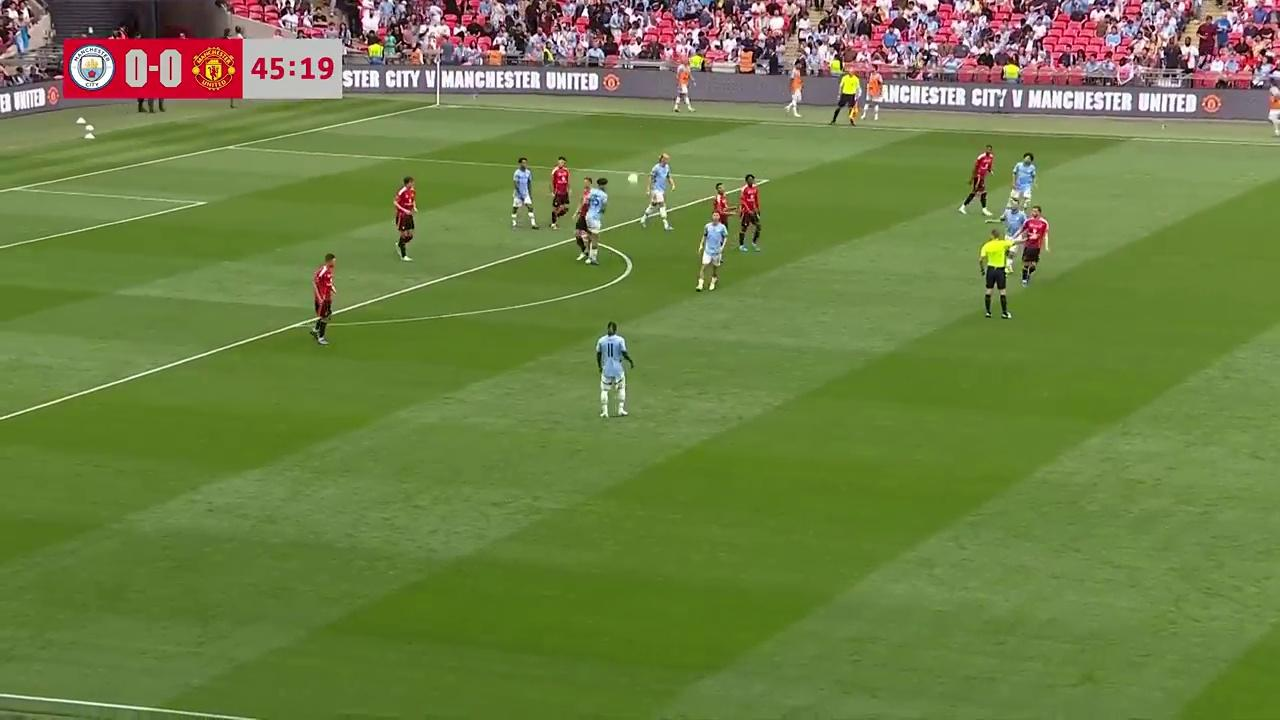ball: (625, 168, 639, 185)
player: (595, 320, 634, 418), (1016, 205, 1049, 286), (578, 176, 608, 259), (958, 145, 993, 216), (695, 214, 727, 291), (311, 252, 337, 345), (640, 161, 674, 231), (574, 181, 599, 265), (737, 173, 763, 253), (393, 175, 417, 260), (510, 157, 537, 231), (999, 196, 1027, 260), (548, 155, 571, 229), (1010, 152, 1037, 211), (711, 184, 732, 251)
referee: (978, 228, 1013, 319), (829, 69, 860, 127)
